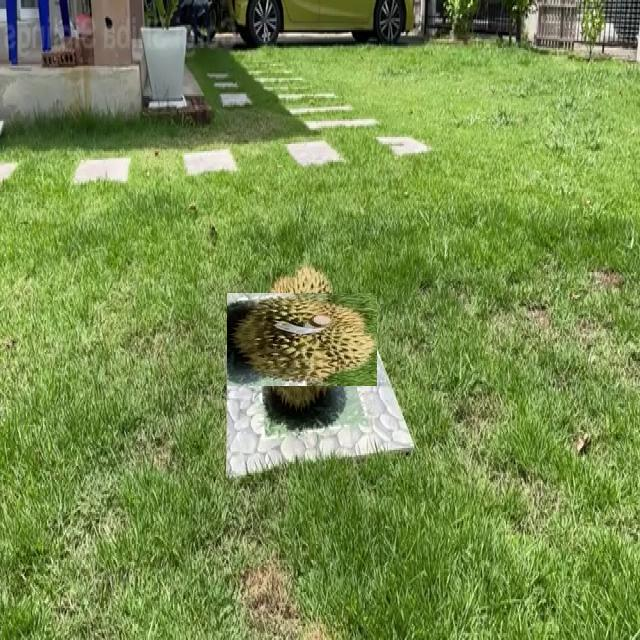durian: (241, 278, 363, 400)
